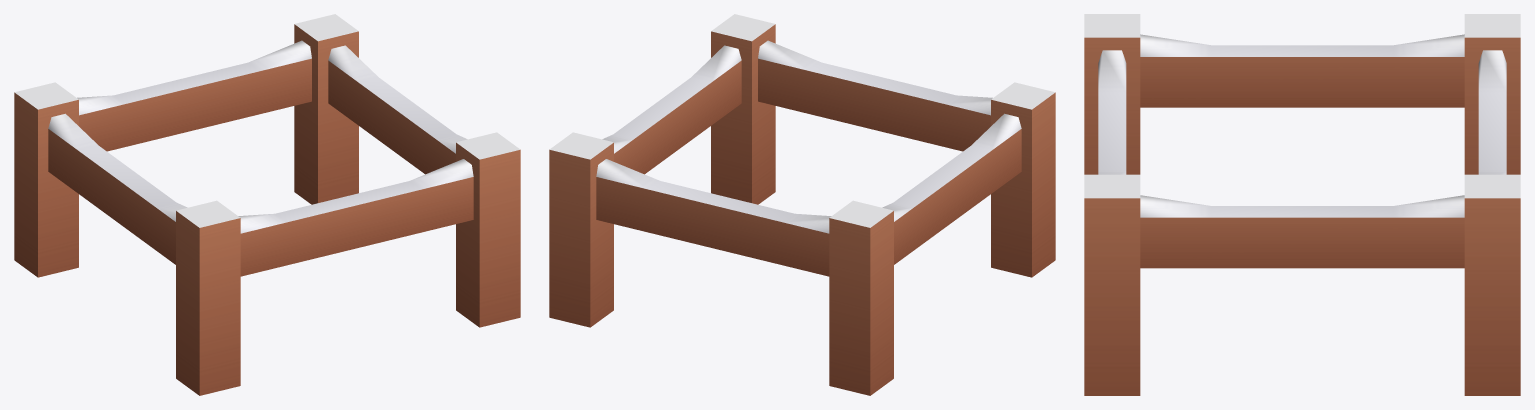
Rendered from snow-wood-structure.gltf.
3 renders of one model, left to right at view 1: azimuth 30°, elevation 25°; view 2: azimuth 150°, elevation 25°; view 3: azimuth 270°, elevation 25°, orthographic. The views are drawn at different scales.
Visible parts, largest first — view 1: snow-wood-structure; view 2: snow-wood-structure; view 3: snow-wood-structure.
Boxes of the visible parts, box(x1,y1,x2,y2) form: snow-wood-structure: box(14, 14, 520, 395); snow-wood-structure: box(549, 14, 1055, 395); snow-wood-structure: box(1084, 14, 1520, 395).
Bounding box in the file's own units: 1 × 0.5 × 1.
1 material, 1 textured.
